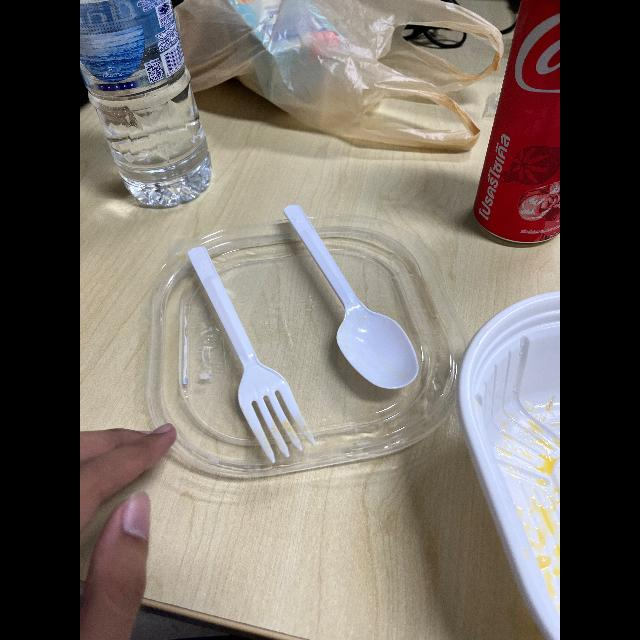plastic_cultery: (177, 242, 327, 466), (268, 196, 426, 400)
